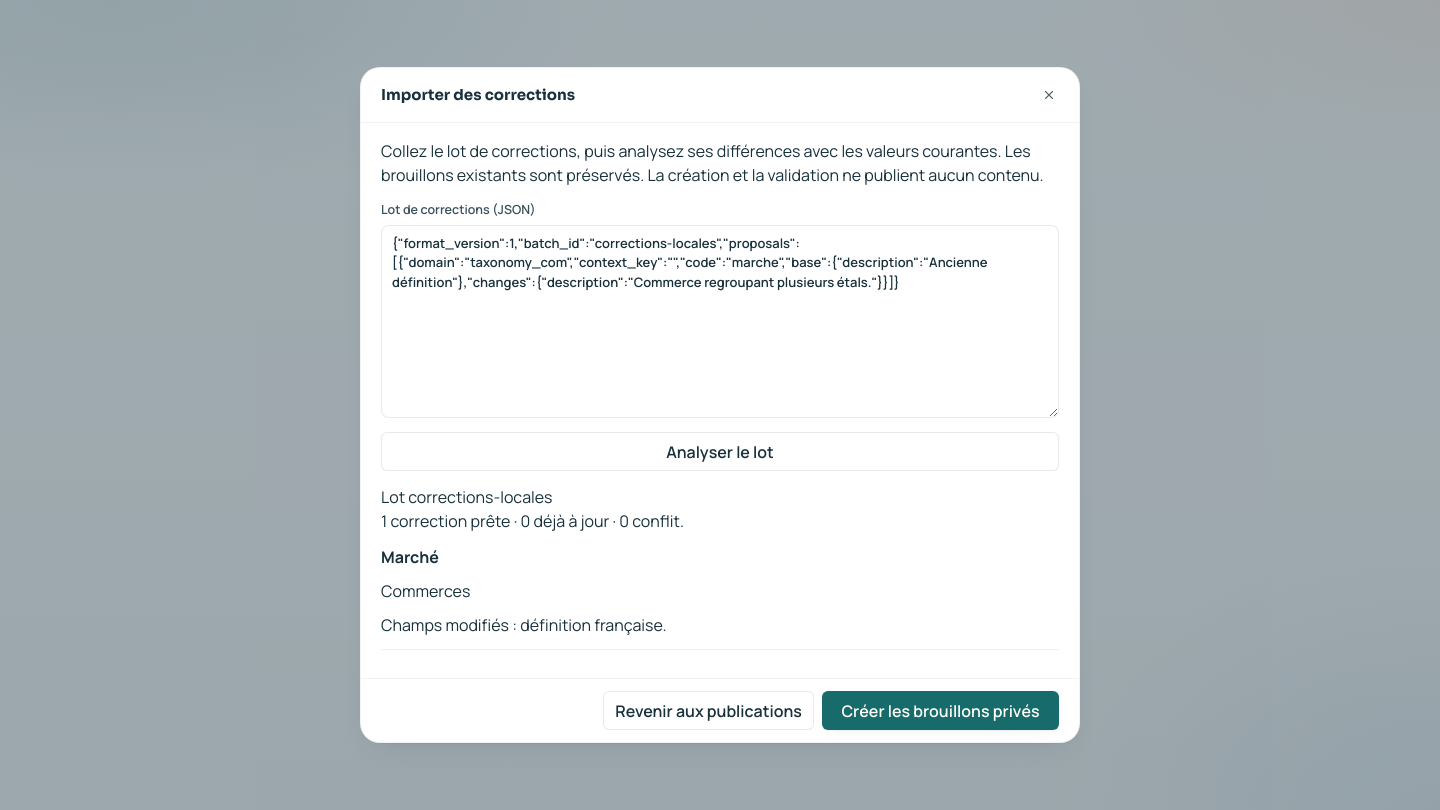
Test: approved private import flow › keeps confirmed earlier drafts and clearly stops an uncertain partial request
Earlier steps of the test are not shown.
Expected: the text "Marché" is shown, [381, 546, 439, 568]
Click the button "Créer les brouillons privés".
click(940, 710)  # box [822, 691, 1059, 730]
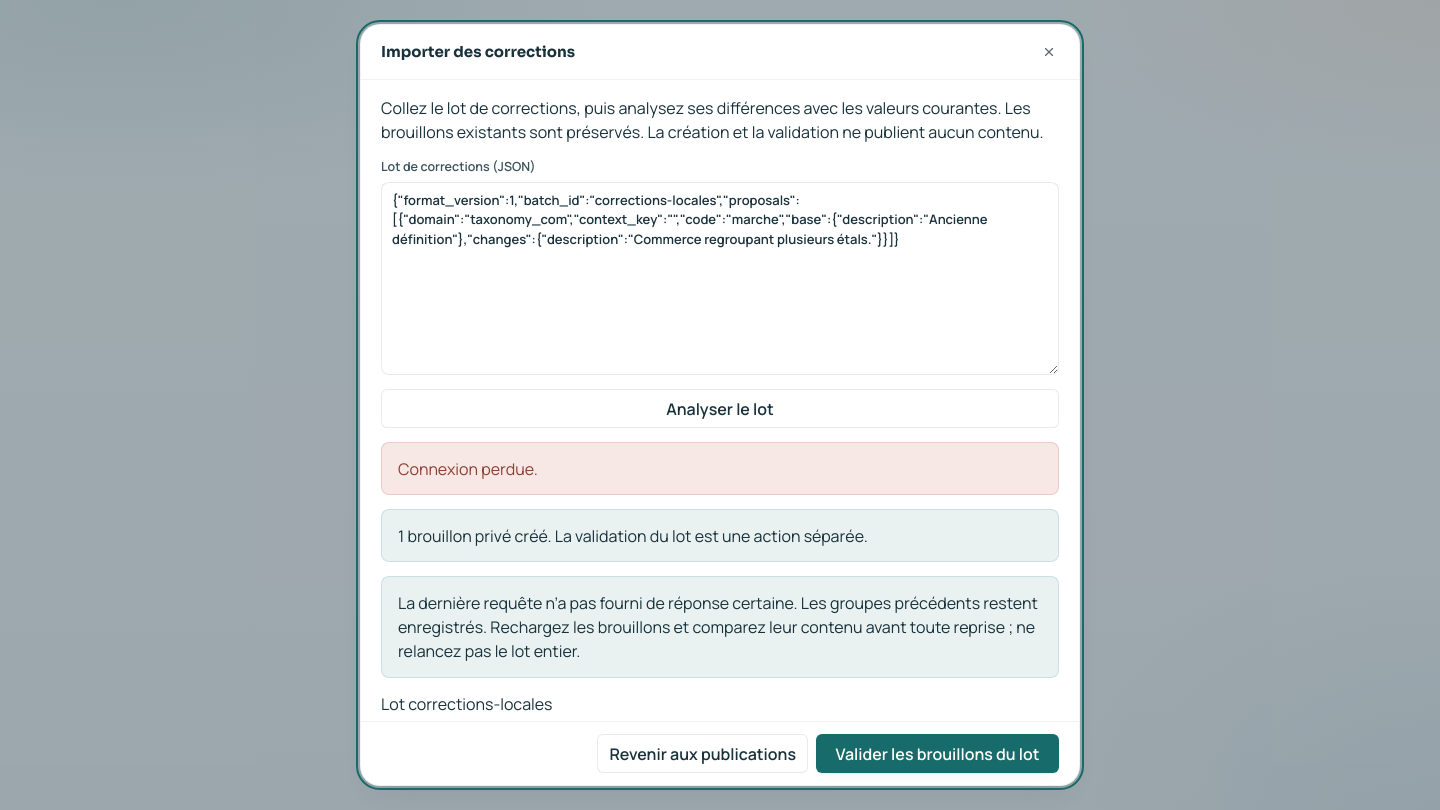
Expected: the text "dernière requête n’a pas fourni de réponse certaine" is shown, [398, 592, 1038, 662]
Expected: the button "Valider les brouillons du lot" is disabled, [816, 734, 1059, 773]
